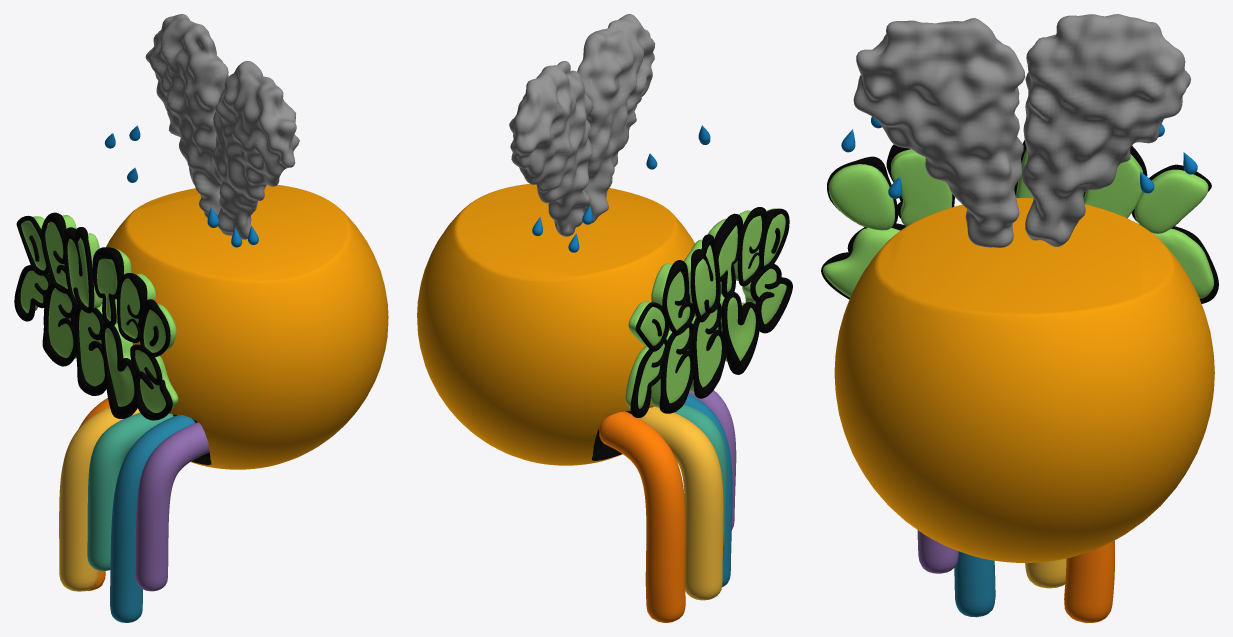
The model's file is dented feels.glb.
The picture shows the model from 3 angles, left to right: view 1: azimuth 30°, elevation 25°; view 2: azimuth 150°, elevation 25°; view 3: azimuth 270°, elevation 25°; orthographic projection. The views are drawn at different scales.
Visible parts, largest first — view 1: Head, Letters Baked.001, Smoke Volume, BezierCurve.006, BezierCurve.005, BezierCurve.003, BezierCurve.004, Sphere; view 2: Head, Letters Baked.001, Smoke Volume, BezierCurve.002, BezierCurve.003, BezierCurve.005, BezierCurve.004, BezierCurve.006, Sphere; view 3: Head, Smoke Volume, Letters Baked.001, BezierCurve.002, BezierCurve.005, BezierCurve.006, Sphere, BezierCurve.003.
Boxes of the visible parts, x1,y1,x2,y2 form: Head: (102,184,388,469); Letters Baked.001: (14,212,178,420); Smoke Volume: (145,14,299,239); BezierCurve.006: (135,422,209,591); BezierCurve.005: (110,415,195,622); BezierCurve.003: (59,406,139,591); BezierCurve.004: (87,412,173,570); Sphere: (104,125,258,247); Head: (417,184,694,465); Letters Baked.001: (625,207,792,417); Smoke Volume: (509,14,654,236); BezierCurve.002: (599,411,685,622); BezierCurve.003: (639,406,723,600); BezierCurve.005: (684,394,732,587); BezierCurve.004: (674,404,726,549); BezierCurve.006: (688,390,736,529); Sphere: (532,125,710,252); Head: (834,197,1214,562); Smoke Volume: (853,14,1190,247); Letters Baked.001: (821,140,1218,303); BezierCurve.002: (1064,540,1114,622); BezierCurve.005: (954,551,995,617); BezierCurve.006: (917,530,958,573); Sphere: (841,116,1197,198); BezierCurve.003: (1025,558,1066,588).
Size of the model in its own units: 2.54 by 4.37 by 2.34.
